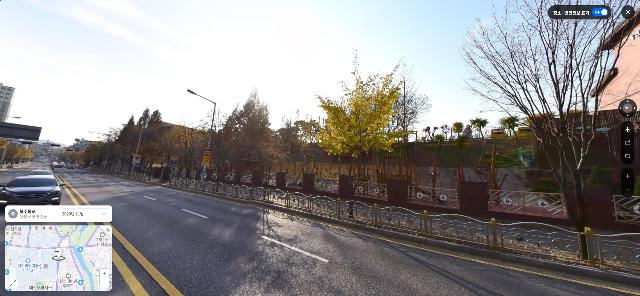ginkgo: (306, 51, 416, 215)
other: (460, 0, 632, 263), (220, 87, 287, 191), (386, 60, 432, 160), (196, 102, 236, 188), (259, 132, 290, 200), (172, 120, 207, 179), (115, 111, 141, 171), (161, 124, 188, 179), (106, 129, 128, 176), (143, 137, 163, 180), (499, 116, 520, 146), (470, 116, 490, 147)
